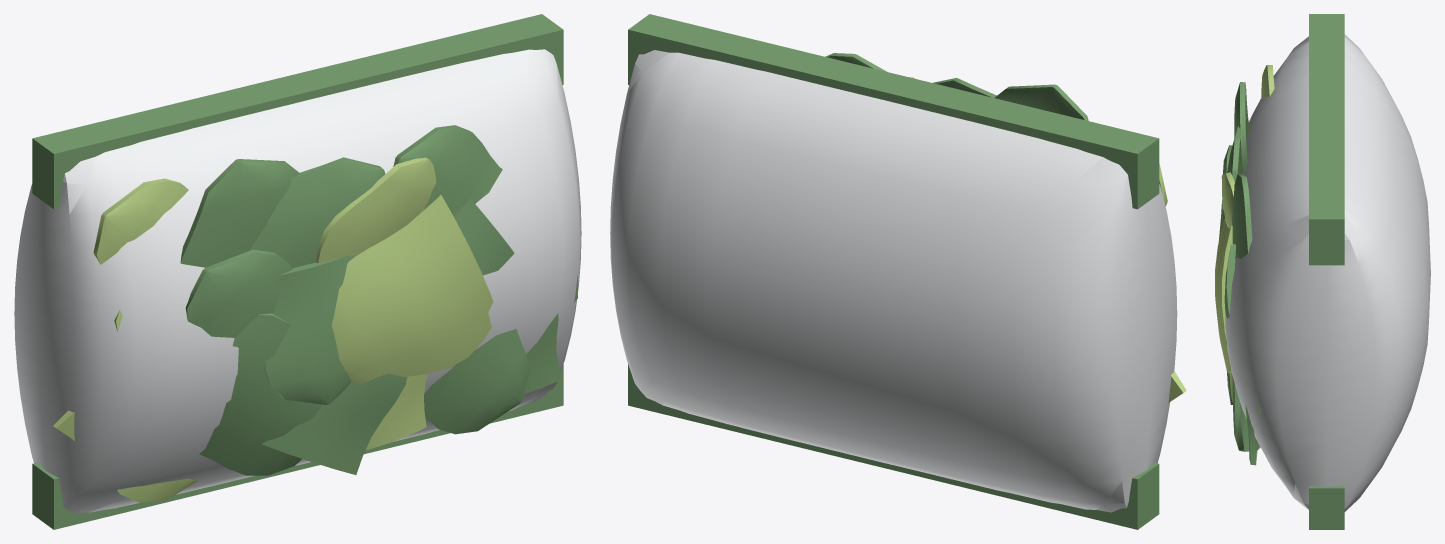
The model's file is fresh-produce-and-groceries-spinach-bag-bfda06d8__24368.glb.
3 renders of one model, left to right at view 1: azimuth 30°, elevation 25°; view 2: azimuth 150°, elevation 25°; view 3: azimuth 270°, elevation 25°, orthographic. The views are drawn at different scales.
Parts seen in each view (by area): view 1: spinach-bag; view 2: spinach-bag; view 3: spinach-bag.
Boxes of the visible parts, x1,y1,x2,y2 form: spinach-bag: (14, 14, 581, 529); spinach-bag: (610, 14, 1186, 529); spinach-bag: (1215, 14, 1430, 529).
Size of the model in its own units: 0.2288 by 0.1562 by 0.0984.
